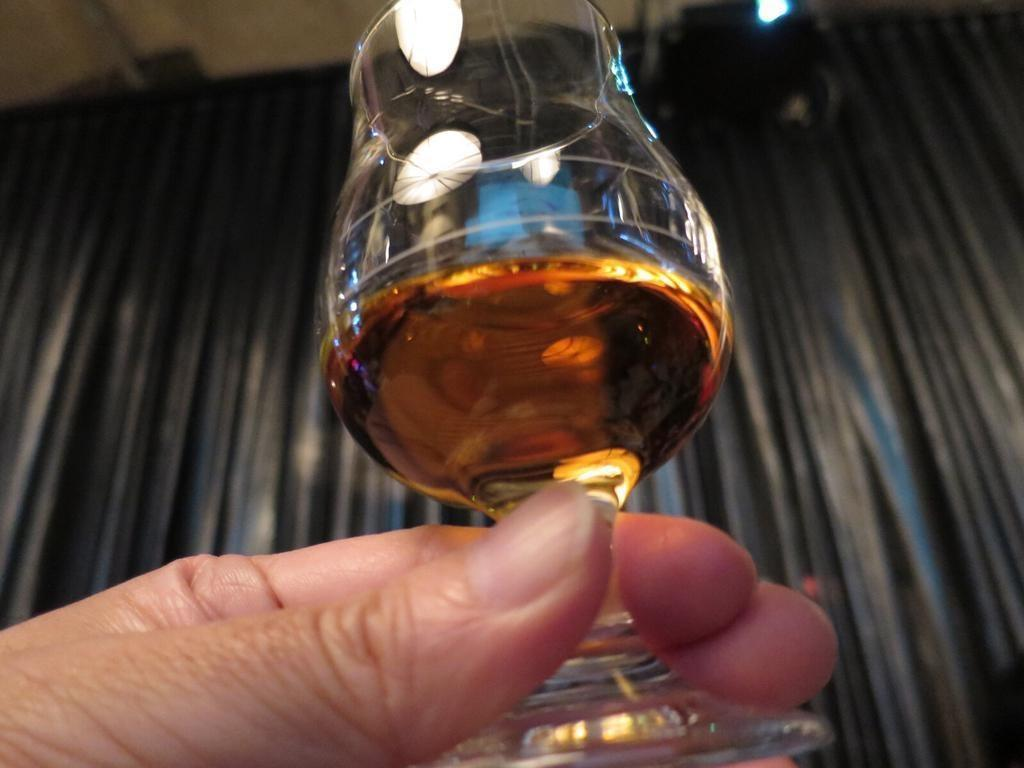glass-wine: (319, 1, 835, 768)
